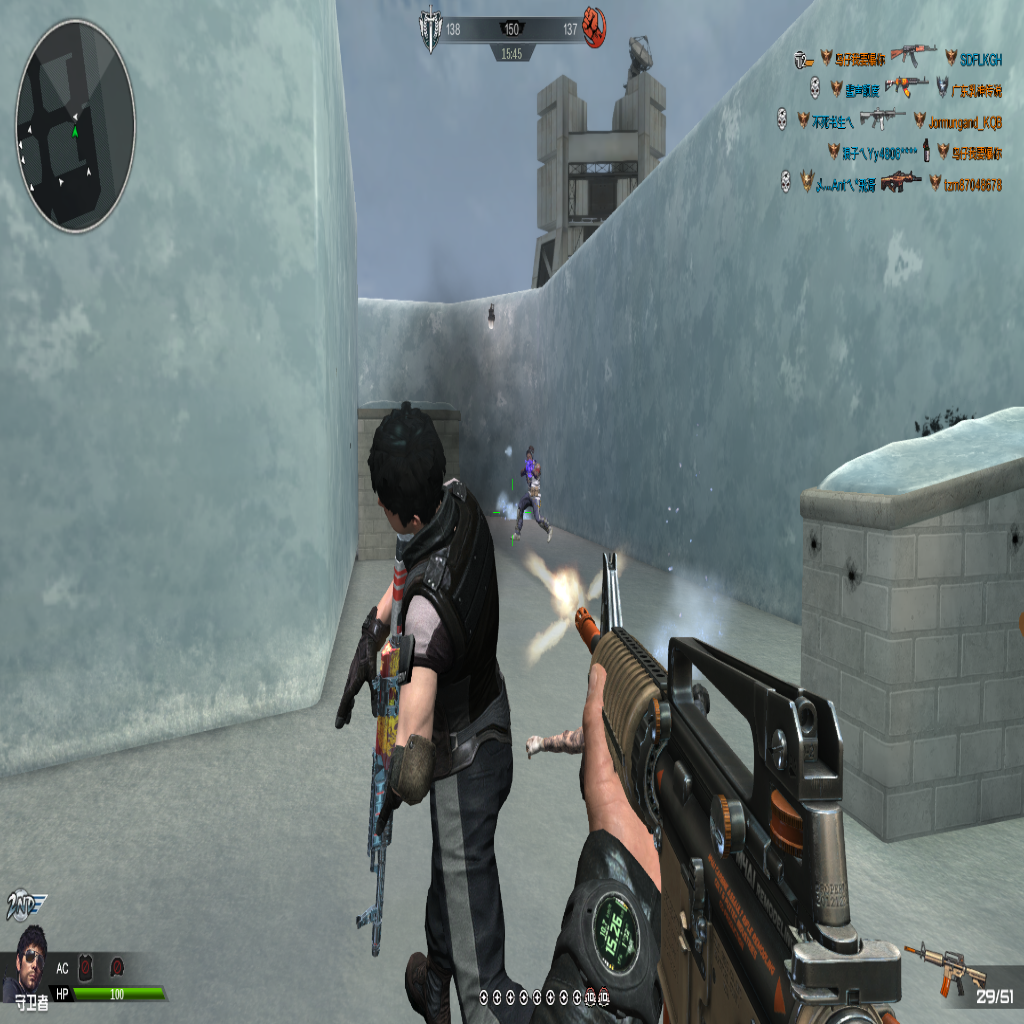tt: (511, 444, 550, 548)
